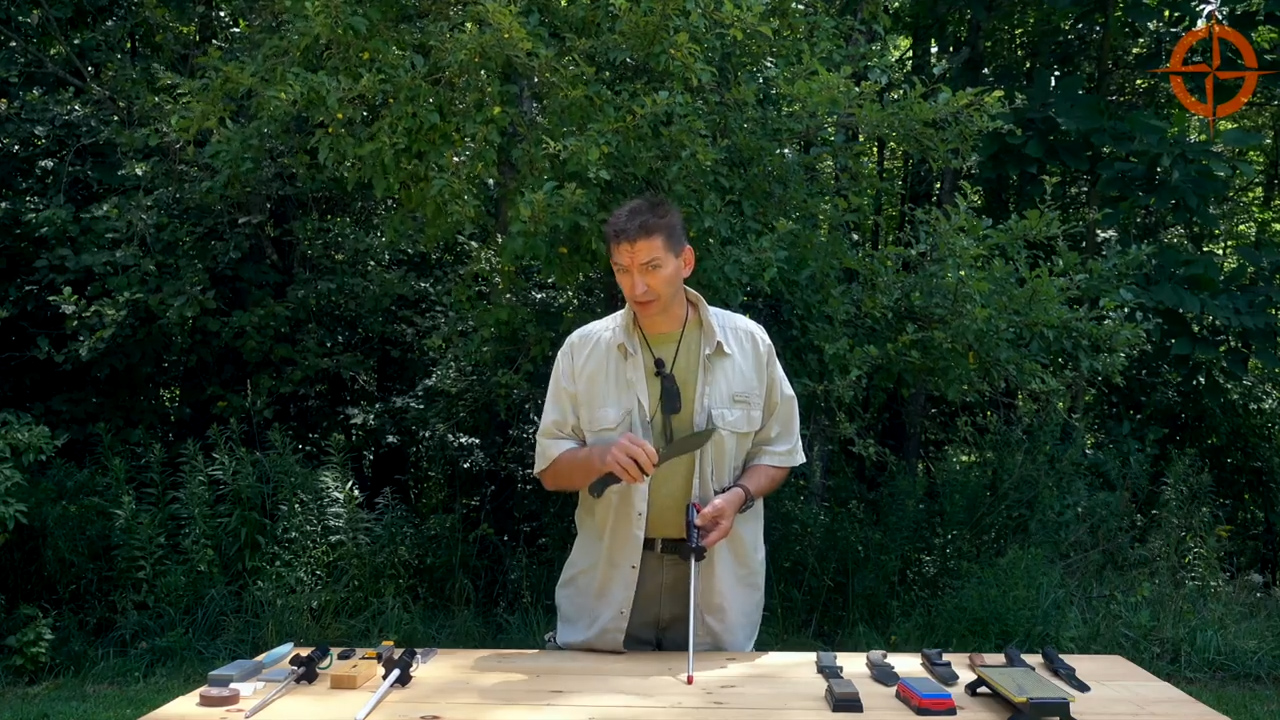knife: (584, 425, 721, 500)
